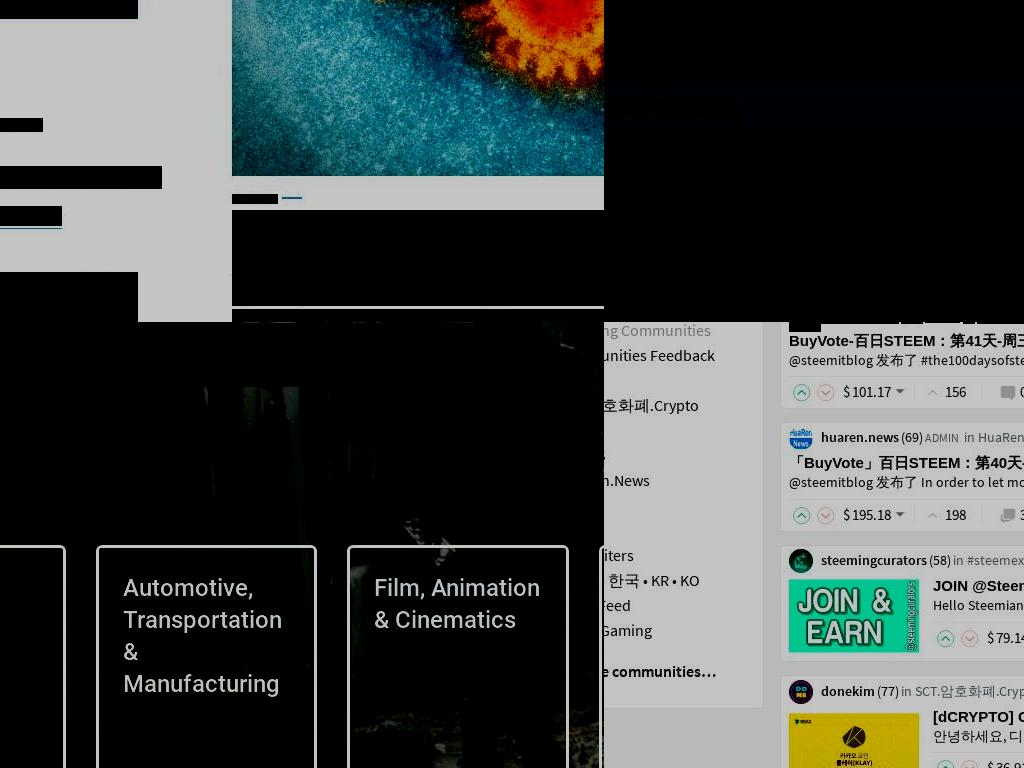button: (232, 0, 604, 176), (95, 545, 317, 768), (347, 545, 569, 768), (0, 545, 66, 768), (0, 437, 91, 485), (789, 638, 919, 659), (0, 206, 62, 226), (789, 434, 821, 455), (789, 557, 821, 578), (789, 687, 821, 708), (789, 322, 821, 332)
heading: (232, 210, 604, 306), (604, 172, 1024, 216), (789, 331, 1024, 349), (789, 454, 1024, 472), (933, 707, 1024, 725), (0, 118, 43, 132), (232, 194, 278, 204)
image: (232, 0, 604, 176), (789, 579, 919, 653), (789, 713, 919, 768), (789, 426, 813, 451), (789, 549, 813, 574), (789, 679, 813, 704), (817, 384, 836, 403), (890, 386, 909, 405), (817, 507, 836, 526), (890, 509, 909, 528), (961, 629, 980, 648), (793, 384, 811, 403), (924, 384, 942, 403), (999, 384, 1017, 403), (793, 507, 811, 526), (924, 507, 942, 526), (999, 507, 1017, 526), (937, 629, 955, 648), (961, 760, 980, 768), (789, 322, 813, 328), (937, 760, 955, 768), (663, 27, 670, 32), (762, 27, 769, 32), (839, 27, 846, 32)
link: (789, 350, 1024, 369), (789, 473, 1024, 492), (604, 345, 715, 365), (915, 681, 1024, 700), (821, 551, 927, 570), (604, 570, 700, 590), (604, 395, 699, 415), (821, 428, 899, 447), (967, 551, 1024, 570), (821, 681, 875, 700), (604, 620, 652, 640), (604, 470, 650, 490), (977, 428, 1024, 447), (604, 545, 634, 565), (604, 595, 631, 615)
text: (0, 323, 485, 387), (604, 228, 1024, 300), (122, 574, 282, 698), (374, 574, 540, 634), (0, 272, 138, 322), (0, 166, 162, 189), (604, 98, 744, 118), (604, 322, 731, 343), (604, 661, 716, 681), (690, 20, 757, 36), (604, 20, 658, 36), (789, 20, 834, 36), (925, 430, 960, 446), (851, 381, 873, 401), (851, 504, 873, 524), (945, 381, 966, 401), (945, 504, 966, 524), (901, 428, 923, 447), (929, 551, 951, 570), (877, 681, 899, 700), (872, 381, 891, 401), (872, 504, 891, 524), (995, 627, 1010, 647), (1009, 627, 1024, 647), (963, 428, 975, 447), (953, 551, 964, 570), (901, 681, 912, 700), (843, 381, 853, 401), (843, 504, 853, 524), (987, 627, 997, 647), (995, 757, 1010, 768), (1009, 757, 1024, 768), (987, 757, 997, 768), (1019, 381, 1024, 401), (1019, 504, 1024, 524)
